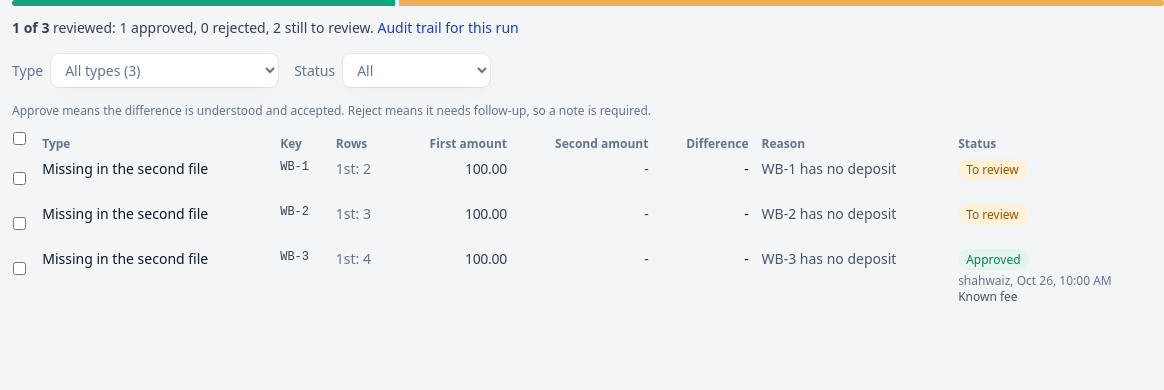
Scenario: select all picks everything shown
Click the checkbox named "Select all shown".
click(20, 138)  # box left=13, top=132, right=26, bottom=145
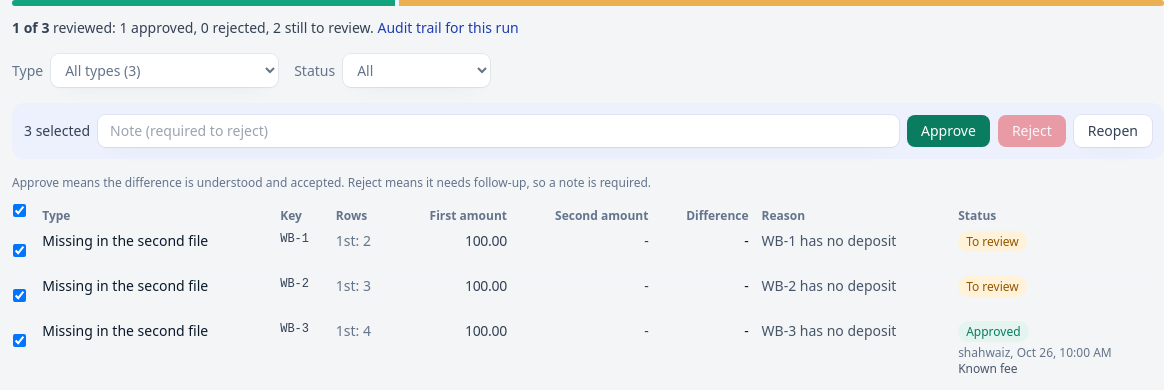
Check: the text "3 selected" is shown, box left=24, top=121, right=90, bottom=141
